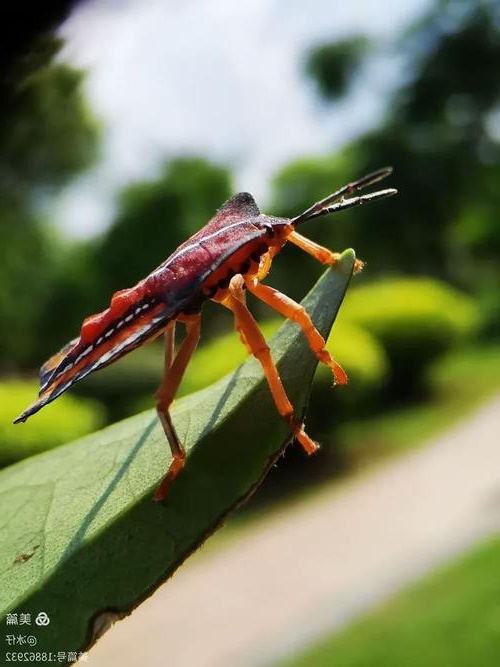Stink_Bug: (35, 181, 387, 434)
